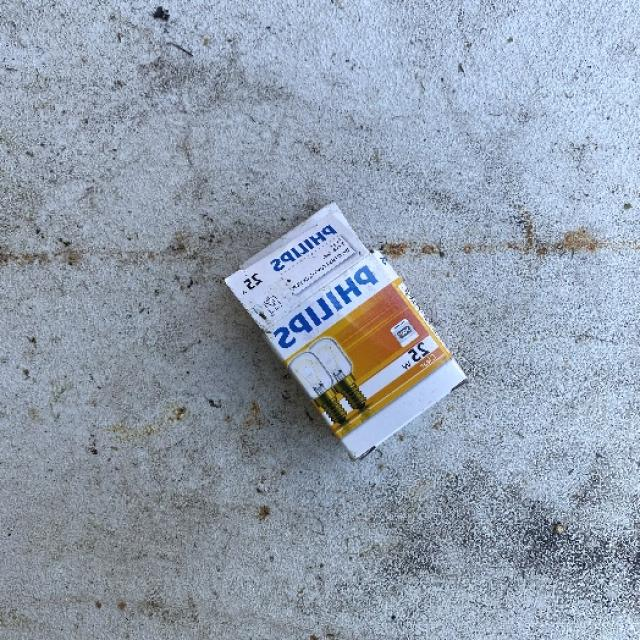kertas: (223, 178, 413, 466)
